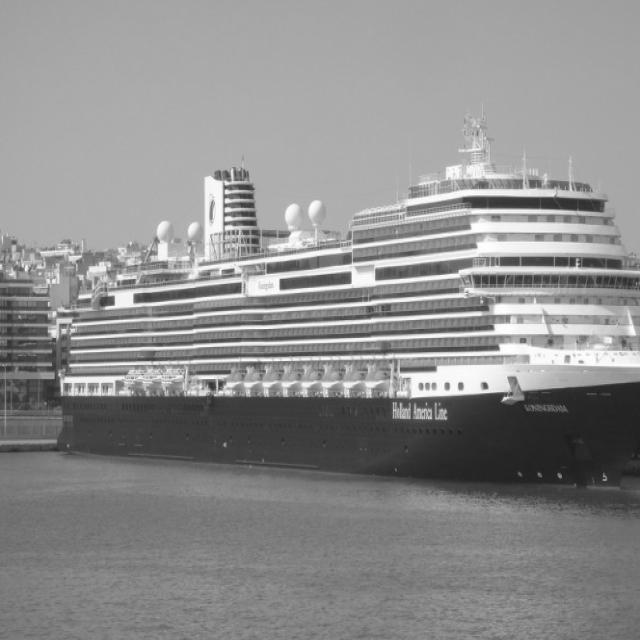cruises: (53, 115, 640, 509)
